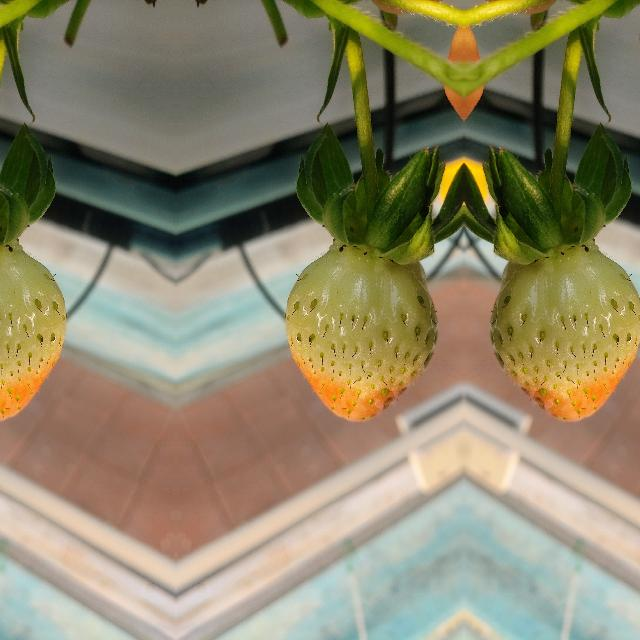Health_50: (281, 251, 437, 424), (489, 250, 640, 423), (0, 250, 69, 423)
